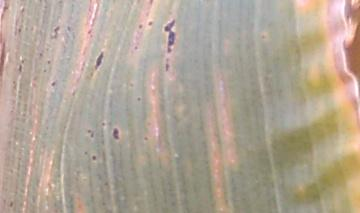tarspot: (162, 15, 178, 56), (93, 50, 105, 72), (109, 125, 122, 144), (84, 125, 96, 143), (50, 23, 61, 41), (140, 132, 152, 145), (63, 22, 75, 34), (14, 62, 25, 75), (48, 77, 57, 90), (16, 5, 27, 15), (135, 20, 144, 32), (163, 62, 172, 73), (16, 23, 23, 37), (86, 27, 93, 41), (134, 95, 143, 105), (147, 17, 154, 29), (81, 148, 90, 157), (7, 199, 16, 208), (98, 120, 108, 128), (1, 4, 11, 12), (133, 44, 141, 54), (91, 154, 100, 162), (146, 1, 156, 8), (46, 59, 52, 68)
